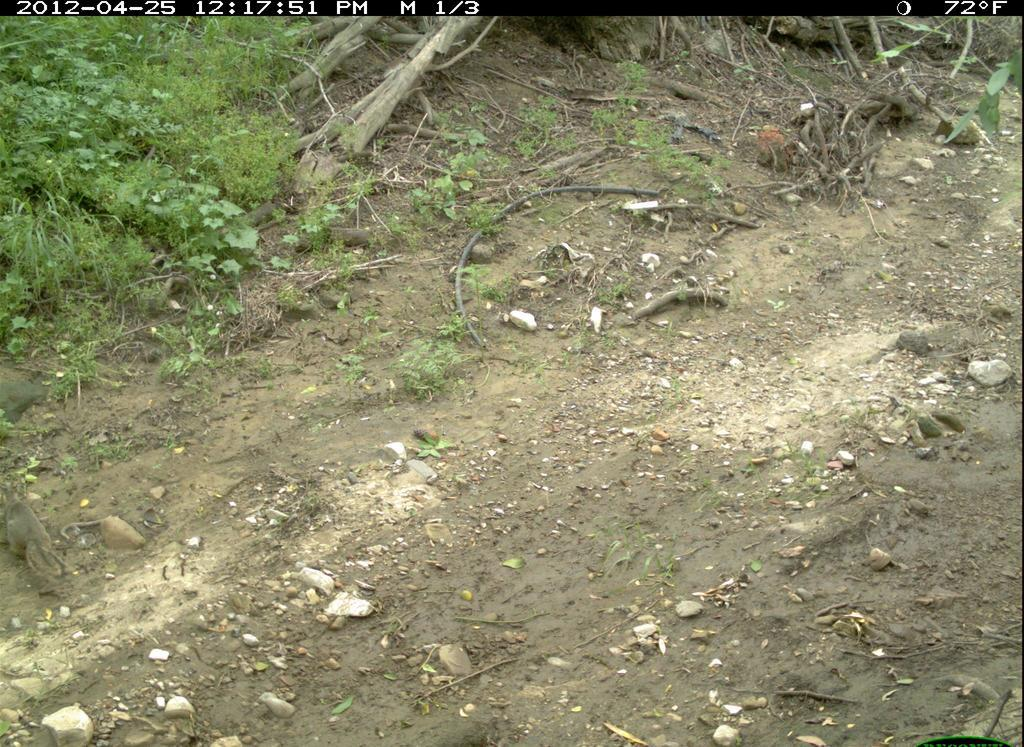squirrel: (1, 474, 68, 600)
